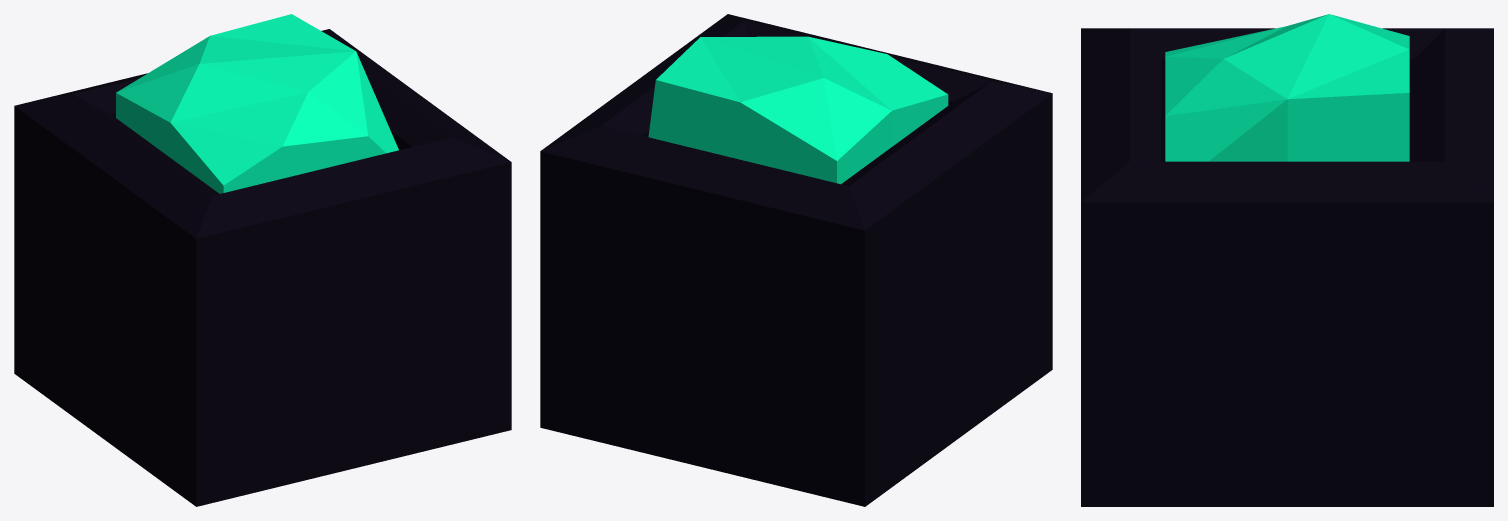
The model's file is glowy_box_7.gltf.
The picture shows the model from 3 angles, left to right: view 1: azimuth 30°, elevation 25°; view 2: azimuth 150°, elevation 25°; view 3: azimuth 270°, elevation 25°; orthographic projection. The views are drawn at different scales.
Parts seen in each view (by area): view 1: Cube; view 2: Cube; view 3: Cube.
Part boxes in pixels (x1,y1,x2,y2): Cube: (14,14,511,506); Cube: (540,14,1052,506); Cube: (1081,14,1493,506).
Bounding box in the file's own units: 1 × 1.02 × 1.
